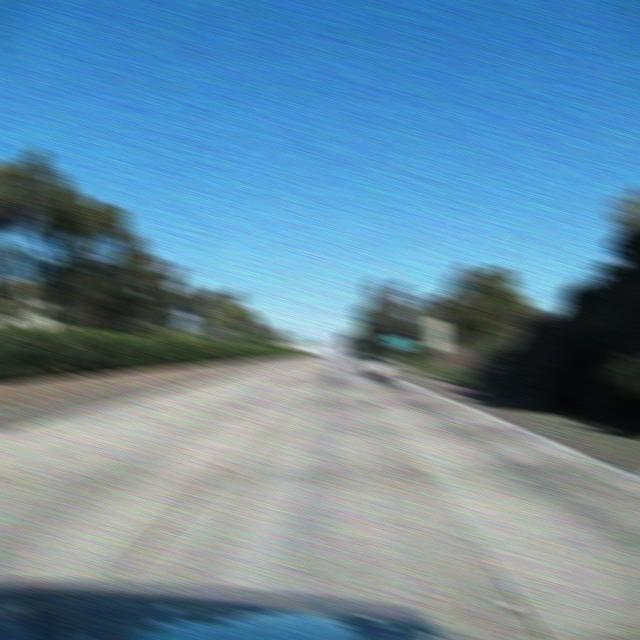speedLimit65: (426, 316, 448, 344)
